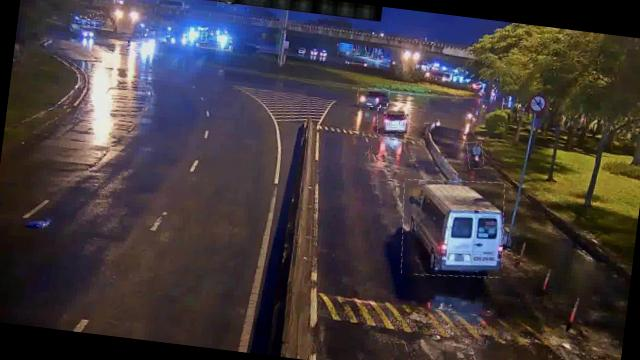Bike: (465, 140, 485, 169)
Bus: (396, 172, 510, 282)
Car: (375, 104, 411, 136), (356, 86, 389, 109)
